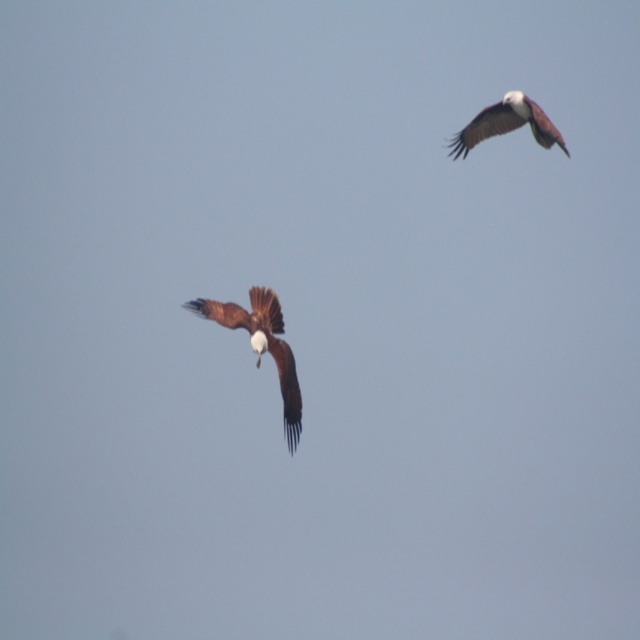Eagle: (180, 283, 306, 456), (442, 88, 575, 165)
